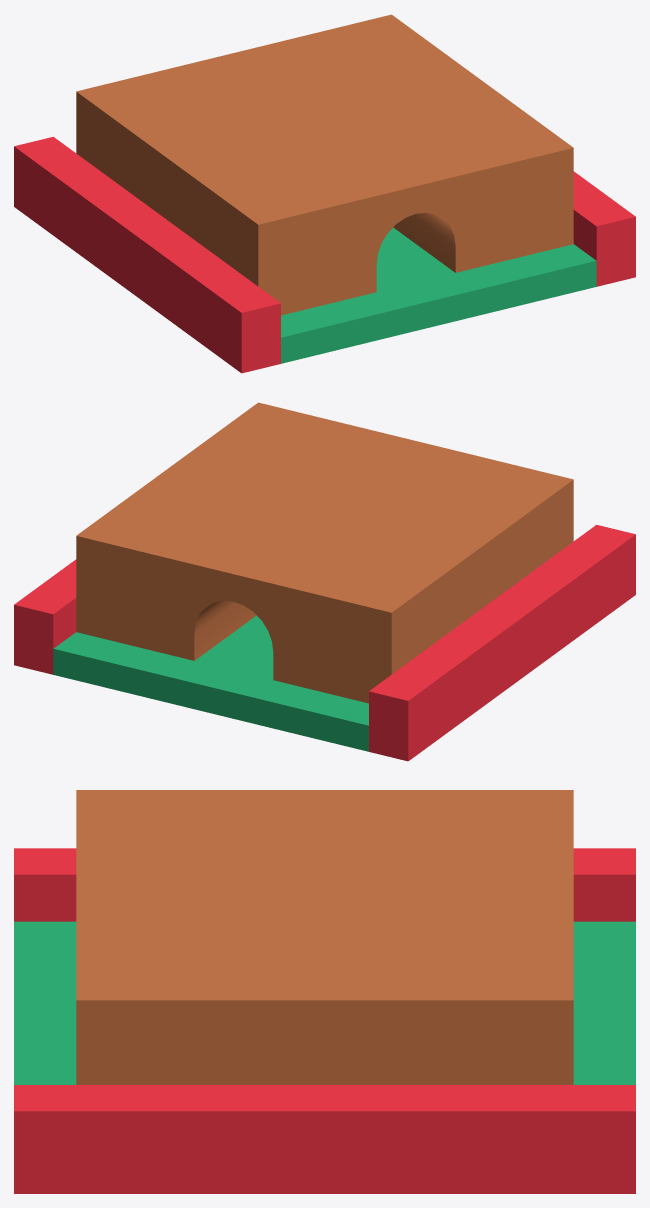
File: tunnelNarrow.fbx
3 views of the same model, one above another, from view 1: azimuth 30°, elevation 25°; view 2: azimuth 150°, elevation 25°; view 3: azimuth 270°, elevation 25° (orthographic). The views are drawn at different scales.
Visible parts, largest first — view 1: tunnelNarrow; view 2: tunnelNarrow; view 3: tunnelNarrow.
Boxes of the visible parts, x1,y1,x2,y2 form: tunnelNarrow: (14, 14, 635, 373); tunnelNarrow: (14, 402, 635, 761); tunnelNarrow: (14, 790, 635, 1193).
Bounding box in the file's own units: 10 × 2.97 × 10.
